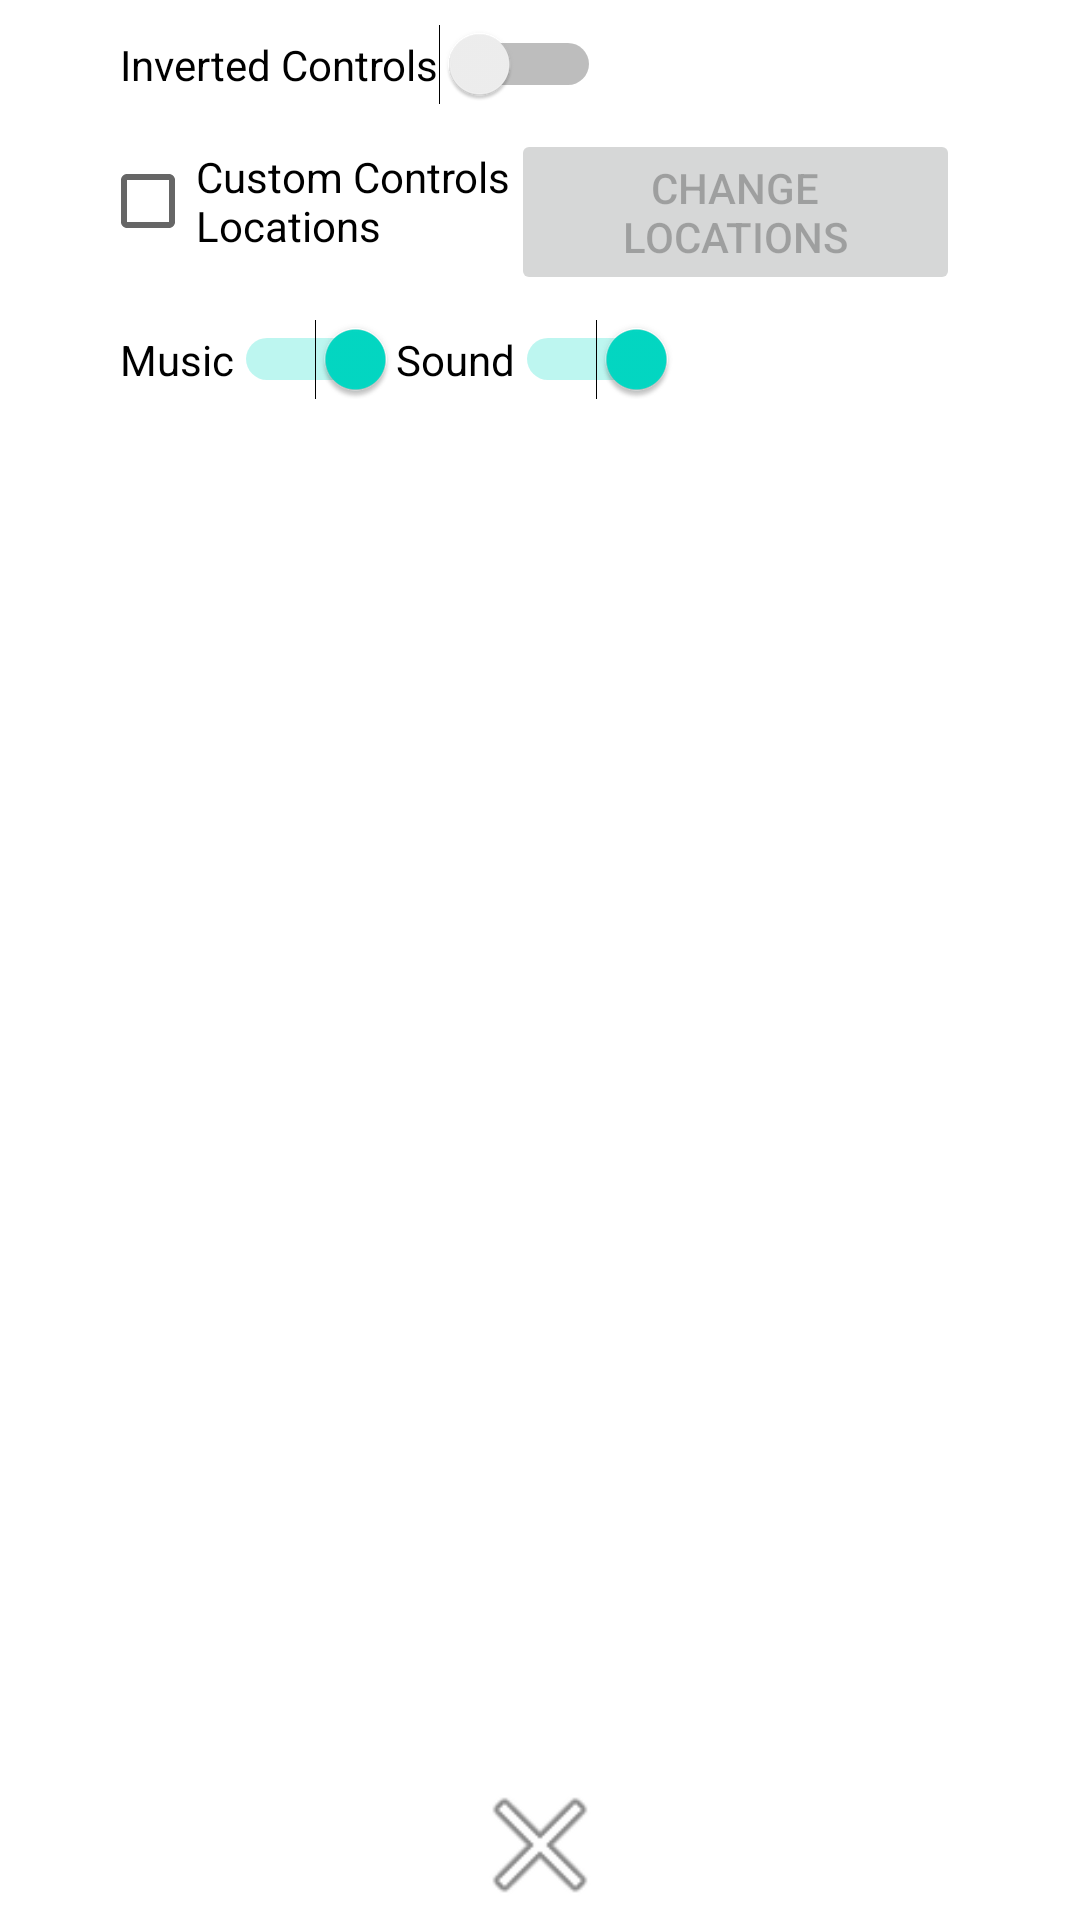

Icons on this 1080 × 1920 Android screen, each with the point to tap as [x,y]:
Closing Button: [540,1845]
